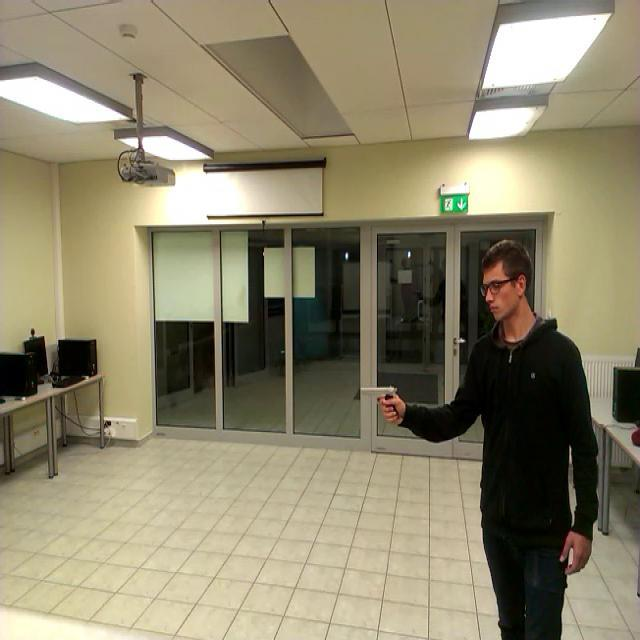Gun: (360, 384, 398, 417)
